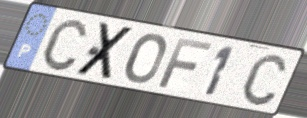1: (205, 46, 236, 99)
C: (239, 51, 289, 108), (40, 17, 90, 73)
F: (155, 37, 215, 90)
O: (123, 32, 167, 85)
X: (72, 21, 138, 82)
